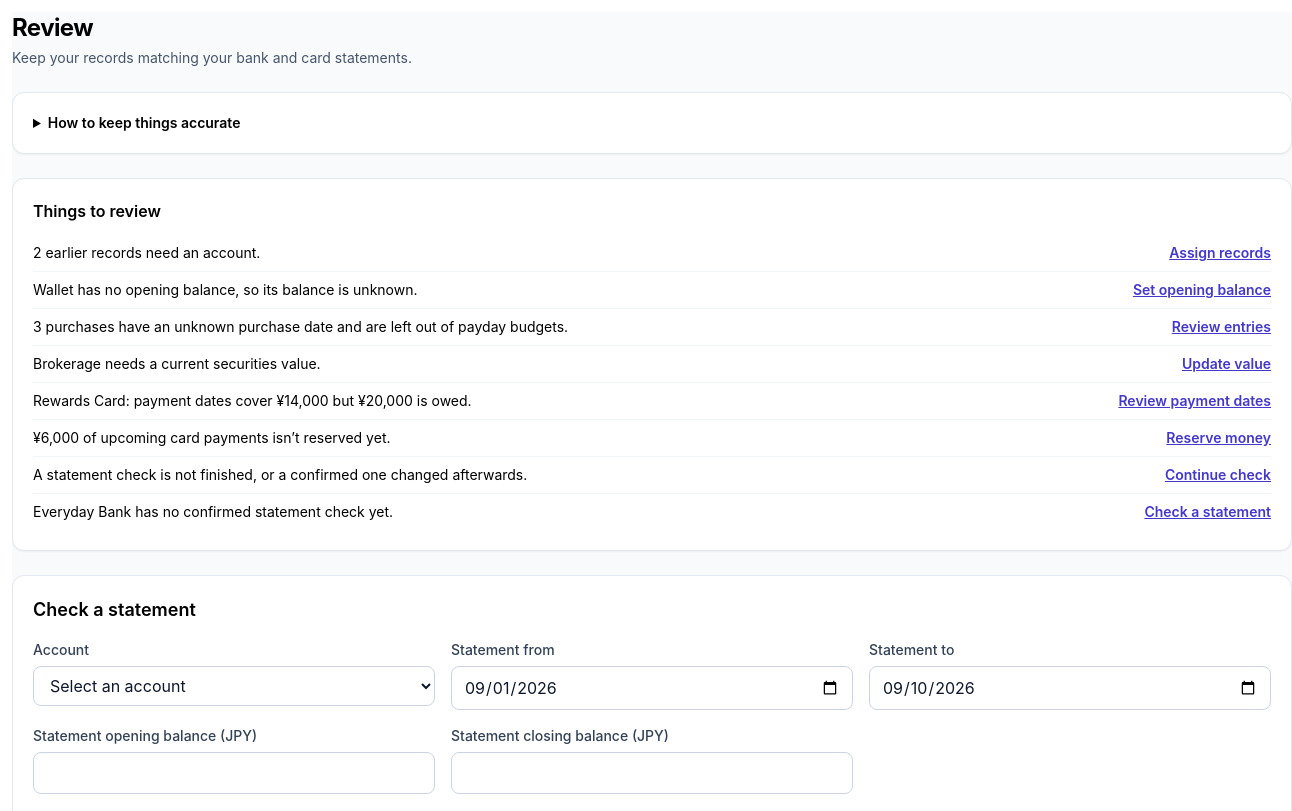
Test: turns data-quality findings into actionable links
This screenshot has width=1292, height=811.
Expected: the text "Wallet has no opening balance, so its balance is unknown." is shown, [33,280,418,300]
Expected: the text "Rewards Card: payment dates cover ¥14,000 but ¥20,000 is owed" is shown, [33,392,472,409]
Click the button named "Check a statement for Everyday Bank": {"x": 1208, "y": 512} [1144,502,1271,522]
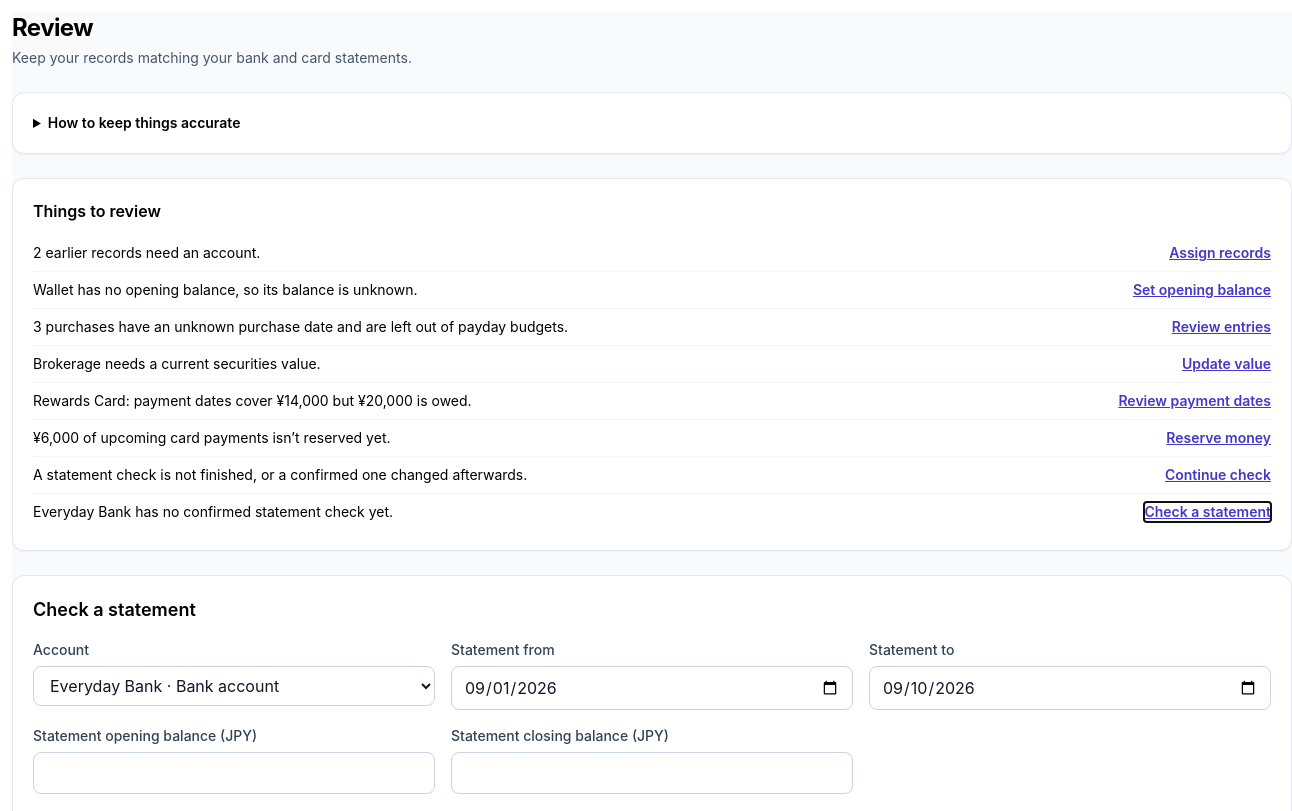
Now the dropdown labelled "Account" shows "Everyday Bank · Bank account", box [33,666,435,706]
